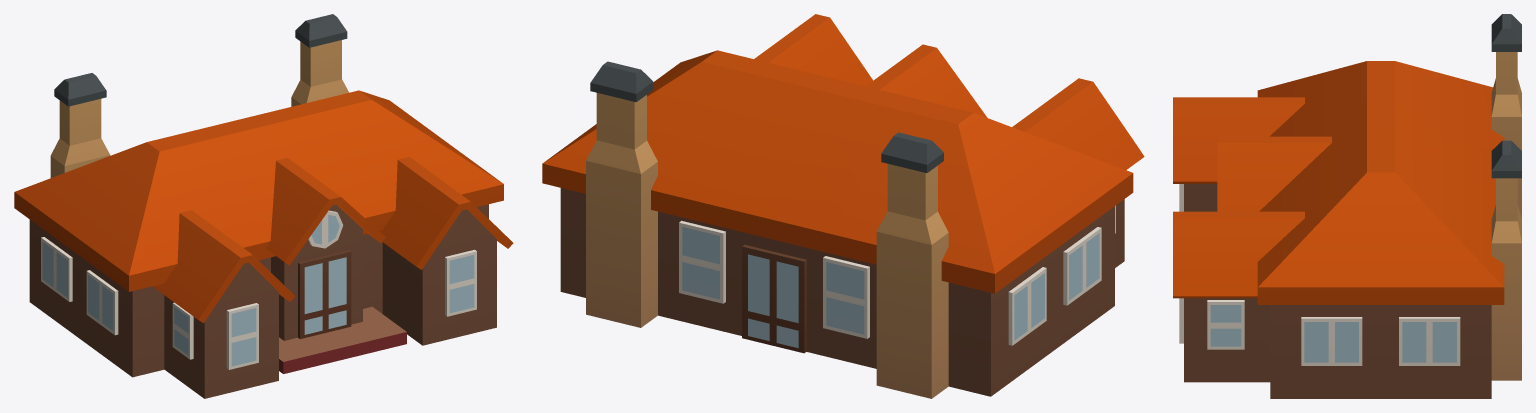
The model's file is cute house.fbx.
3 views of the same model, side by side, from view 1: azimuth 30°, elevation 25°; view 2: azimuth 150°, elevation 25°; view 3: azimuth 270°, elevation 25° (orthographic). The views are drawn at different scales.
Parts seen in each view (by area): view 1: cute house; view 2: cute house; view 3: cute house.
Boxes of the visible parts, x1,y1,x2,y2 form: cute house: (14, 14, 513, 398); cute house: (542, 14, 1144, 398); cute house: (1173, 14, 1521, 398).
Size of the model in its own units: 1109 by 580 by 830.
1 material, 1 textured.
